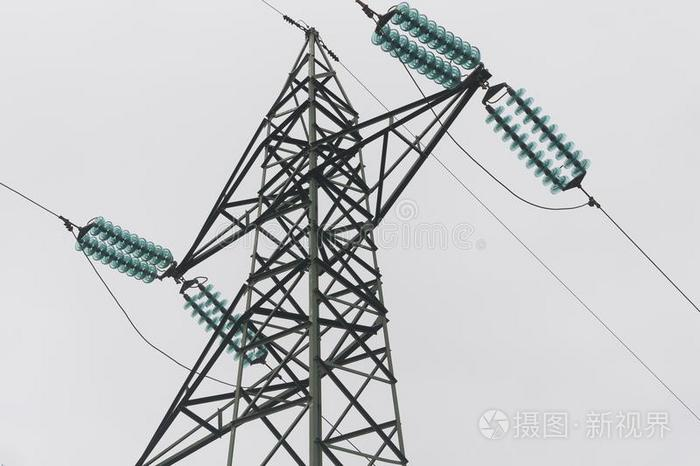insulator: (487, 87, 587, 192), (374, 2, 482, 87), (76, 219, 170, 285), (188, 283, 265, 363)
